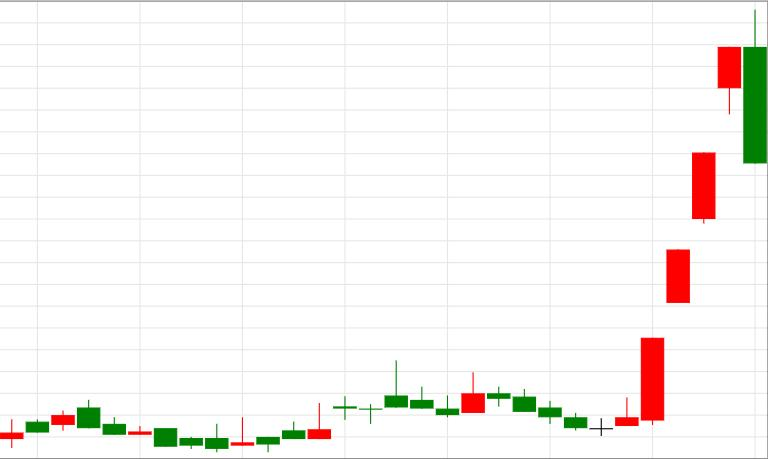bearish_engulfing_fall: (590, 10, 767, 436)
three_white_soldiers_rise: (487, 152, 715, 436)
